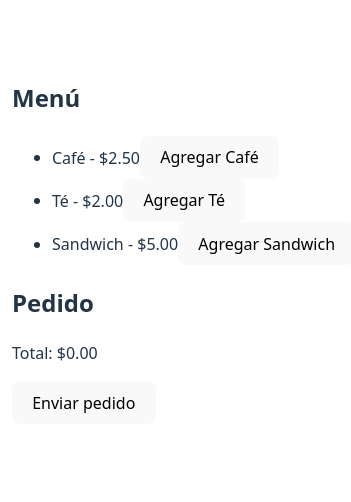
Scenario: calcula el total actualizado al agregar productos
Click the button "Agregar Café".
click(210, 157)  # box x1=140 y1=136 x2=279 y2=179
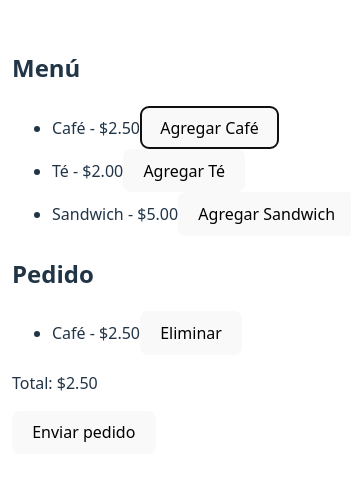
Click the button "Agregar Té".
click(184, 171)  # box x1=123 y1=149 x2=245 y2=192
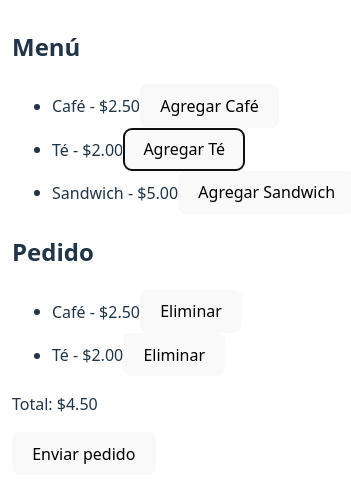
Result: the list named "pedido" shows "Café" at x1=52 y1=300 x2=86 y2=322
Result: the list named "pedido" shows "Té" at x1=52 y1=344 x2=69 y2=366
Result: the text "Total: $4.50" is shown at x1=12 y1=393 x2=98 y2=415
Note: agrega otro cafe para que se actualice a 7 el monto
Click the button "Agregar Café".
click(210, 106)  # box x1=140 y1=84 x2=279 y2=128
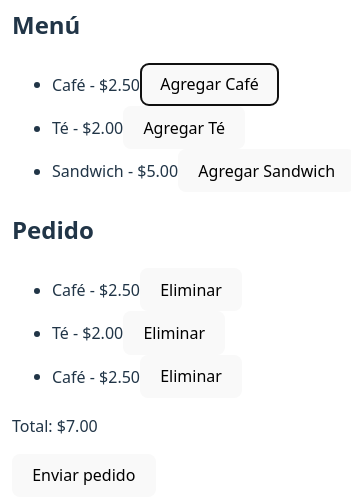
Result: the text "Total: $7.00" is shown at x1=12 y1=415 x2=98 y2=437
